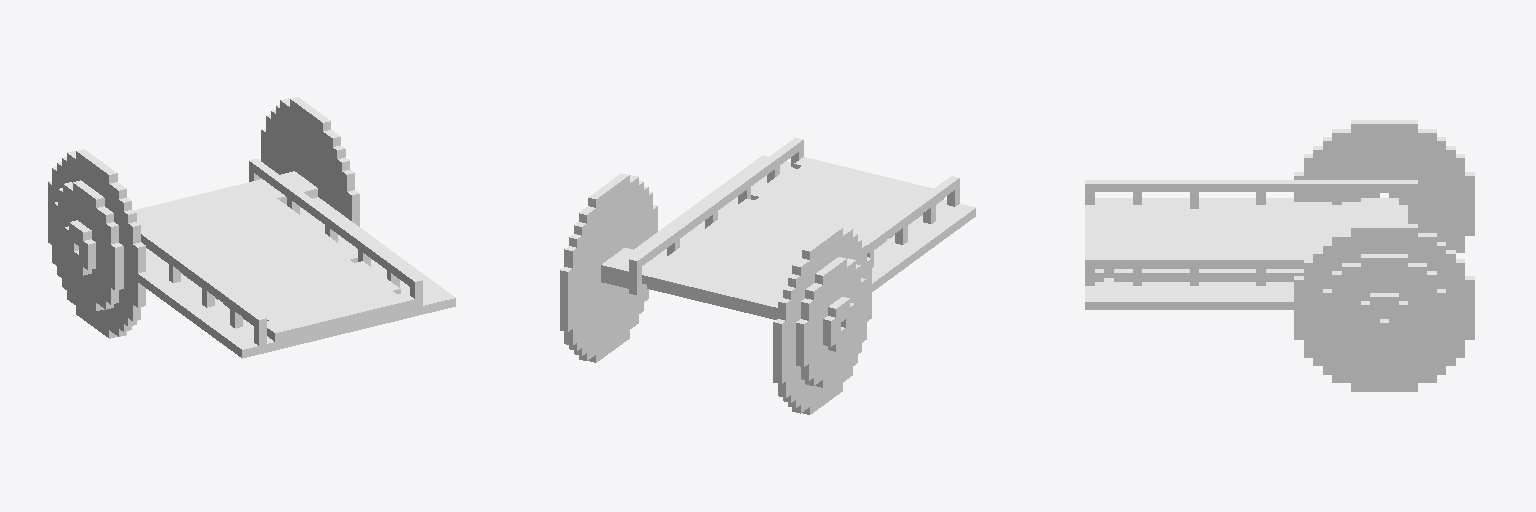
The model's file is puente.obj.
3 renders of one model, left to right at view 1: azimuth 30°, elevation 25°; view 2: azimuth 150°, elevation 25°; view 3: azimuth 270°, elevation 25°, orthographic.
Parts seen in each view (by area): view 1: object 1; view 2: object 1; view 3: object 1.
Boxes of the visible parts, x1=… form: object 1: x1=48, y1=97, x2=455, y2=358; object 1: x1=560, y1=138, x2=975, y2=414; object 1: x1=1085, y1=120, x2=1474, y2=391.
Size of the model in its own units: 3.1 by 1.9 by 4.1.